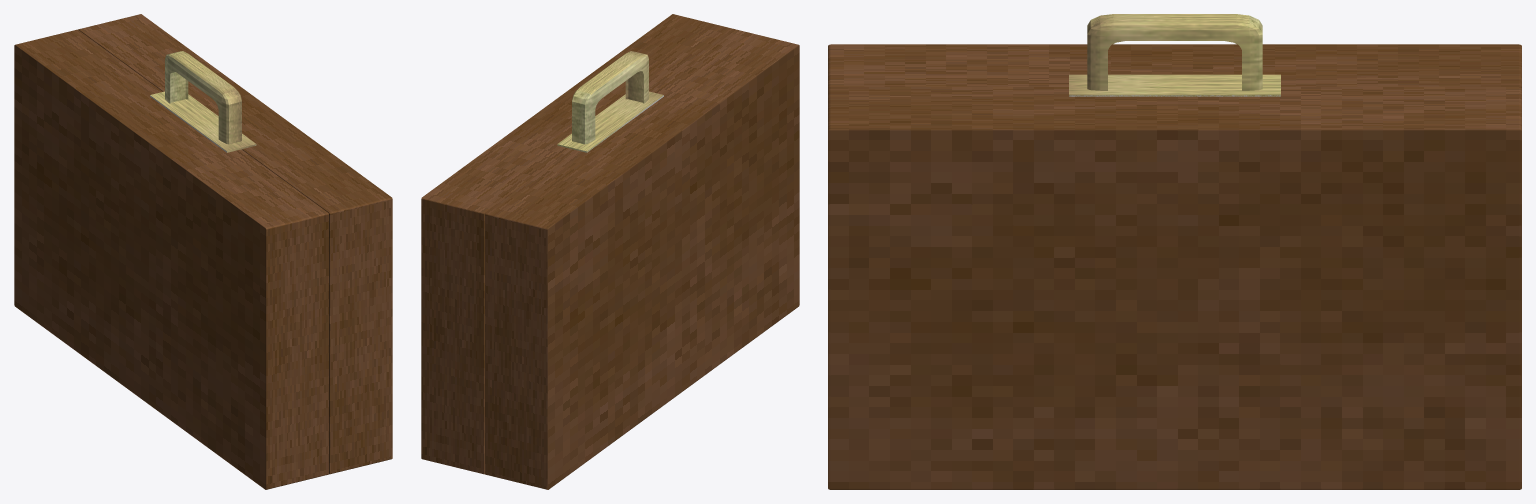
The model's file is Suitcase Brown.glb.
The picture shows the model from 3 angles, left to right: view 1: azimuth 30°, elevation 25°; view 2: azimuth 150°, elevation 25°; view 3: azimuth 270°, elevation 25°; orthographic projection. The views are drawn at different scales.
Visible parts, largest first — view 1: Cube, Cube.001, Cube.005, Cube.002; view 2: Cube, Cube.001, Cube.005, Cube.002; view 3: Cube.001, Cube, Cube.005, Cube.002.
Boxes of the visible parts, x1,y1,x2,y2 form: Cube: [14, 29, 328, 489]; Cube.001: [78, 14, 392, 474]; Cube.005: [165, 51, 241, 144]; Cube.002: [150, 91, 256, 152]; Cube: [485, 29, 799, 489]; Cube.001: [421, 14, 735, 474]; Cube.005: [572, 51, 648, 144]; Cube.002: [557, 91, 663, 152]; Cube.001: [828, 87, 1521, 489]; Cube: [828, 44, 1521, 87]; Cube.005: [1087, 14, 1262, 90]; Cube.002: [1069, 74, 1280, 96].
Size of the model in its own units: 0.4397 by 1.04 by 1.51.
3 materials, 3 textured.
